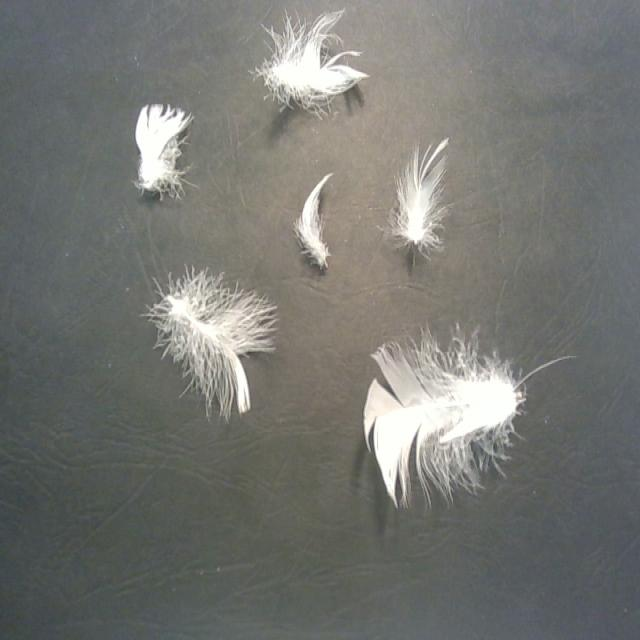feather: (360, 318, 532, 510), (144, 268, 281, 423), (249, 5, 367, 111), (384, 129, 459, 263), (131, 97, 194, 199), (294, 168, 338, 273)
